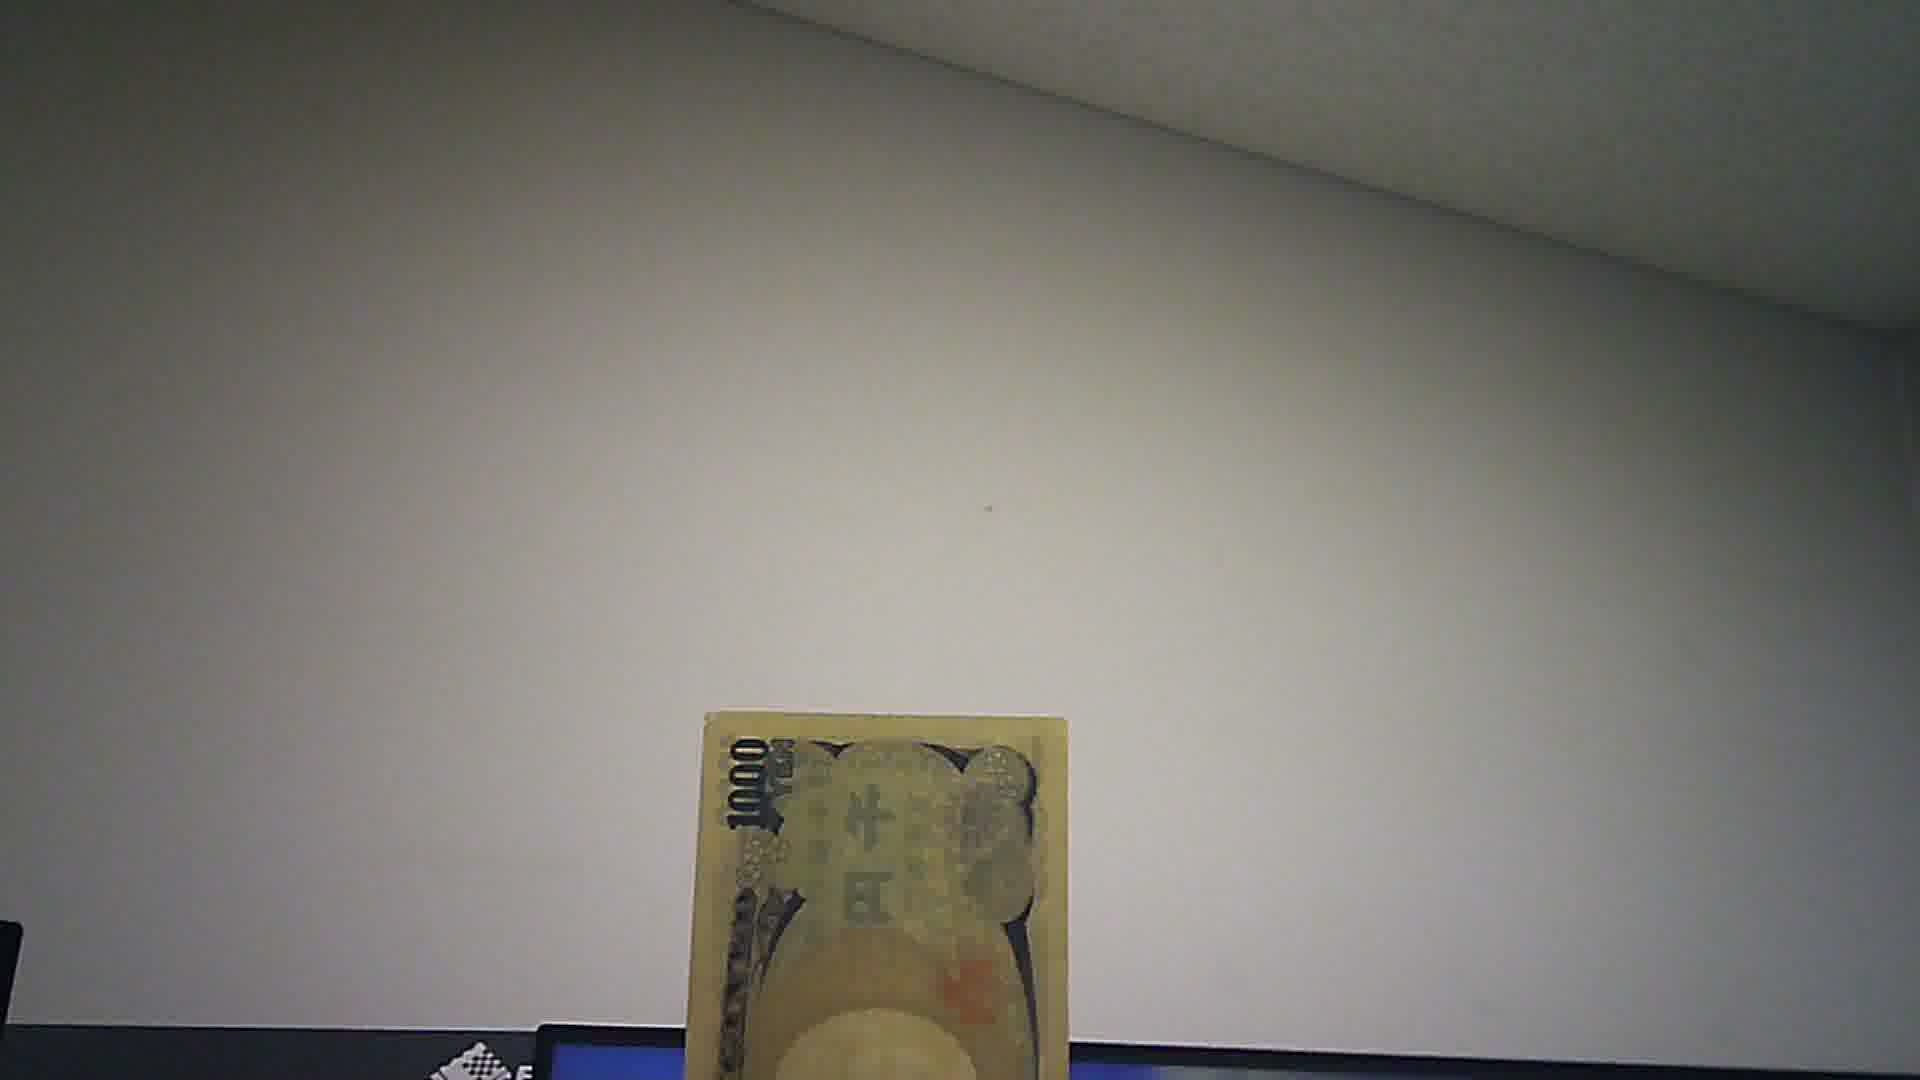1,000 Yen: (687, 700, 1069, 1079)
